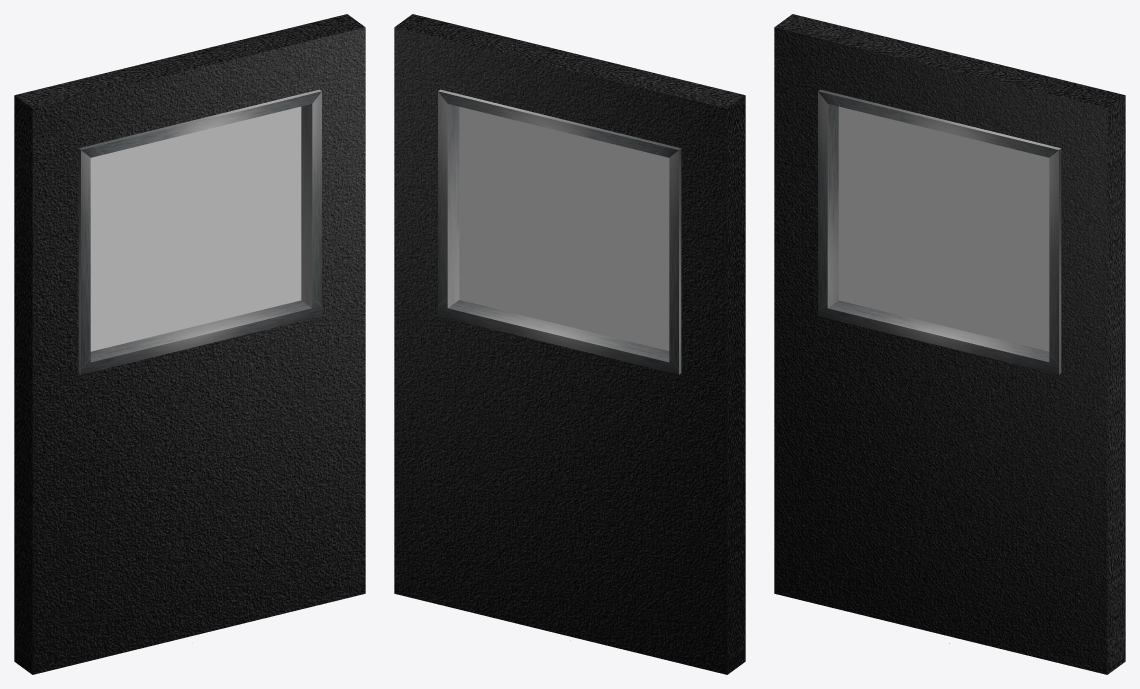
Rendered from door.fbx.
3 renders of one model, left to right at view 1: azimuth 30°, elevation 25°; view 2: azimuth 150°, elevation 25°; view 3: azimuth 330°, elevation 25°, orthographic.
Parts seen in each view (by area): view 1: door; view 2: door; view 3: door.
Boxes of the visible parts, box(x1,y1,x2,y2) form: door: box(14, 14, 365, 674); door: box(394, 14, 745, 674); door: box(774, 14, 1125, 674).
Size of the model in its own units: 240 by 400 by 28.8.
3 materials, 2 textured.
